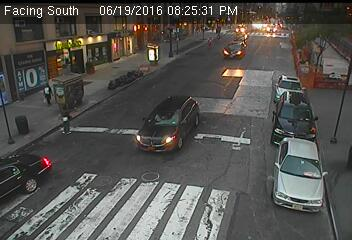neg: (84, 57, 98, 76), (206, 37, 216, 51), (174, 37, 184, 51)
pos: (38, 83, 55, 107)
